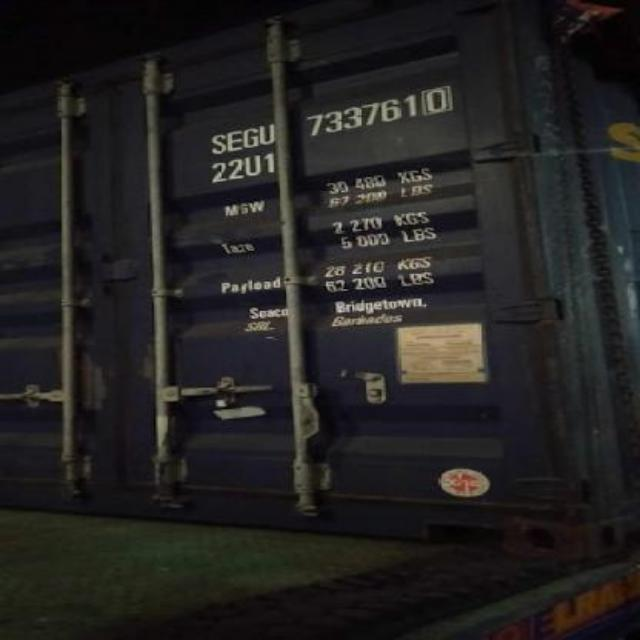0: (428, 83, 464, 115)
1: (402, 92, 424, 124)
3: (338, 104, 364, 134), (322, 110, 342, 138)
6: (380, 98, 404, 126)
7: (294, 110, 322, 138), (360, 98, 376, 132)
E: (224, 126, 244, 152)
G: (240, 122, 260, 154)
S: (186, 128, 228, 156)
U: (254, 118, 280, 150)
